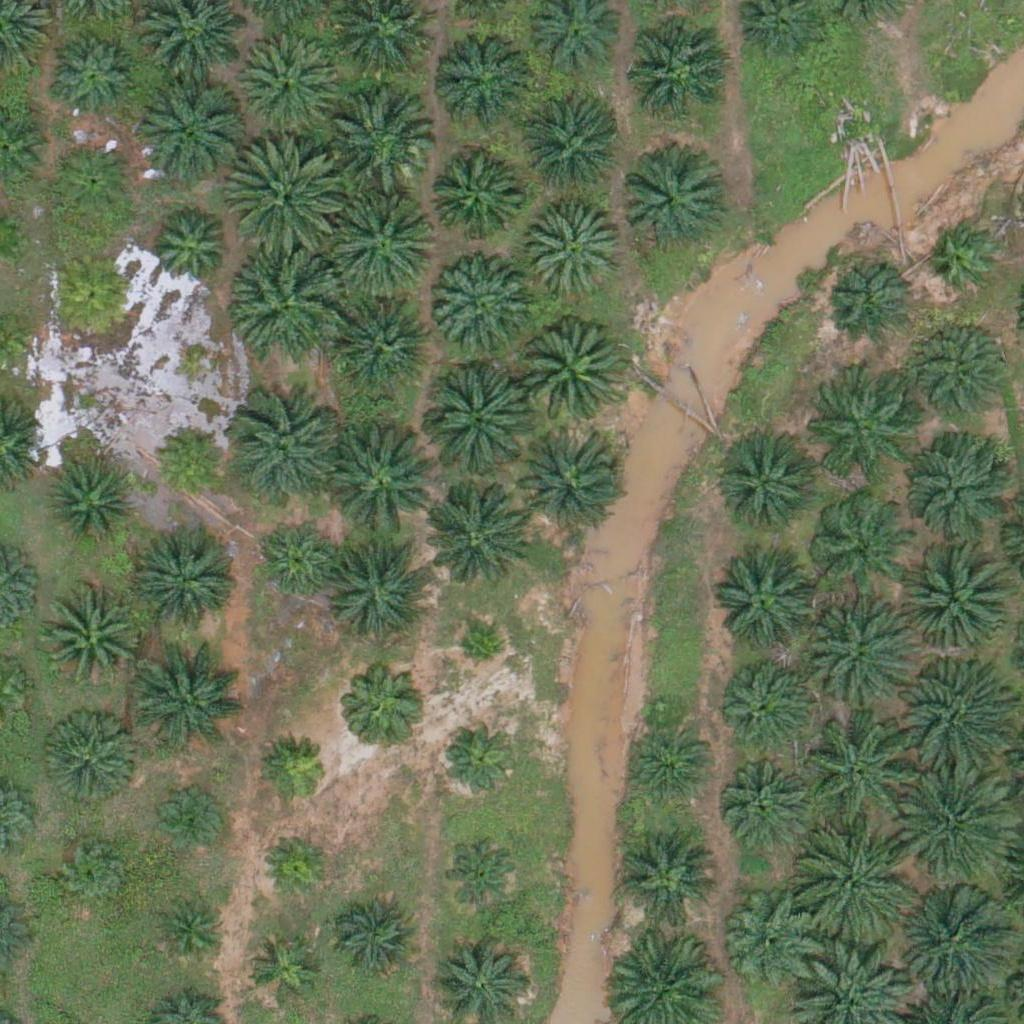Kelapa_Sawit: (902, 768, 1015, 881), (902, 657, 1015, 770), (901, 539, 1014, 652), (902, 424, 1015, 537), (799, 599, 912, 712), (801, 828, 914, 941), (418, 364, 531, 477), (415, 481, 528, 594), (233, 245, 346, 358), (230, 393, 343, 506), (323, 81, 436, 194), (906, 882, 1018, 996), (322, 423, 434, 537), (326, 182, 438, 296), (228, 134, 340, 248), (135, 642, 247, 755), (806, 713, 918, 826), (514, 316, 626, 429), (511, 424, 623, 537), (327, 533, 439, 646), (132, 73, 244, 186), (40, 588, 140, 689), (137, 527, 237, 628), (803, 381, 903, 482), (809, 493, 909, 594), (715, 647, 815, 748), (715, 555, 815, 656), (721, 429, 821, 530), (617, 827, 717, 928), (618, 153, 718, 254), (525, 202, 625, 303), (423, 147, 523, 248), (430, 255, 530, 356), (239, 35, 339, 136), (41, 707, 141, 807), (910, 316, 1010, 416), (722, 890, 822, 990), (718, 749, 818, 849), (523, 104, 623, 204), (337, 293, 437, 393), (627, 21, 727, 121), (435, 25, 535, 125), (48, 249, 136, 338), (439, 830, 527, 919), (254, 519, 342, 607), (48, 136, 136, 224), (825, 257, 913, 345), (339, 656, 427, 744), (333, 895, 421, 983), (50, 32, 137, 121), (47, 460, 134, 548), (437, 712, 524, 800), (624, 715, 711, 803), (144, 204, 231, 292), (151, 421, 226, 497), (154, 783, 229, 859), (928, 223, 1003, 299), (152, 895, 227, 971), (259, 733, 334, 808), (244, 933, 319, 1008), (58, 838, 133, 913), (259, 829, 334, 904), (456, 627, 506, 677)
